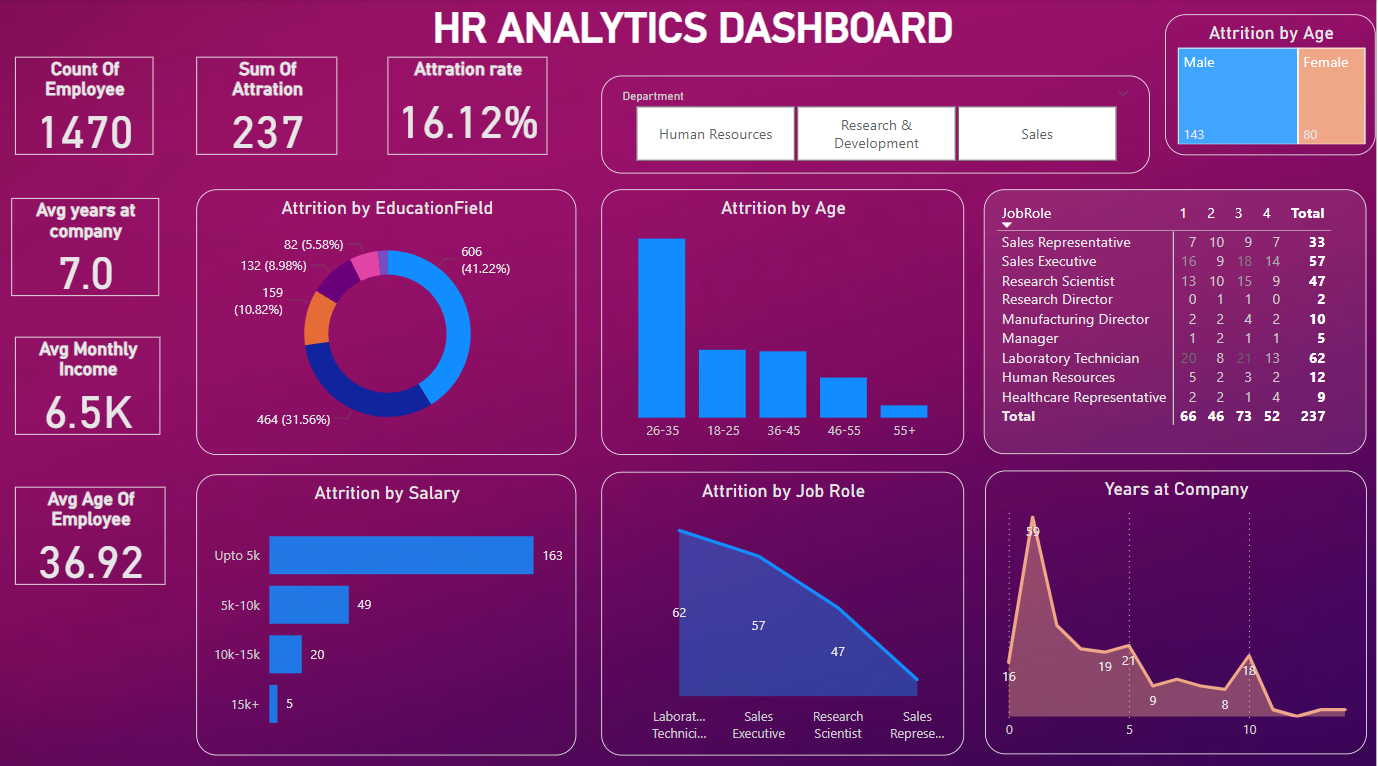

What the dashboard file says about the page in this screenshot:
{"tool":"powerbi","page":{"name":"Page 1","canvas":[1280,720],"ordinal":0},"visuals":[{"type":"card","title":"Count Of Employee","fields":{"Values":["CountNonNull(HR_Analytics.EmpID)"]},"box":[13.8,55,128.8,91.2],"z":0},{"type":"card","title":"Sum Of Attration","fields":{"Values":["Sum(HR_Analytics.AtterationCount)"]},"box":[182.5,55,131.2,91.2],"z":1000},{"type":"card","title":"Attration rate","fields":{"Values":["HR_Analytics.AttrationRate"]},"box":[360,55,148.8,91.2],"z":2000},{"type":"card","title":"Avg Age Of Employee","fields":{"Values":["Avg(HR_Analytics.Age)"]},"box":[13.8,455,140,91.2],"z":3000},{"type":"card","title":"Avg Monthly Income","fields":{"Values":["Avg(HR_Analytics.MonthlyIncome)"]},"box":[13.8,315,135,91.2],"z":4000},{"type":"card","title":"Avg years at company","fields":{"Values":["Avg(HR_Analytics.YearsAtCompany)"]},"box":[10,186.2,137.5,91.2],"z":5000},{"type":"donutChart","title":"Attrition by EducationField","fields":{"Category":["HR_Analytics.EducationField"],"Y":["CountNonNull(HR_Analytics.Attrition)"]},"box":[182.5,177.5,353.8,247.5],"z":6000},{"type":"lineStackedColumnComboChart","title":"Attrition by Age","fields":{"Y":["Sum(HR_Analytics.AtterationCount)"],"Category":["HR_Analytics.AgeGroup"]},"box":[558.8,177.5,337.5,247.5],"z":7000},{"type":"pivotTable","fields":{"Rows":["HR_Analytics.JobRole"],"Columns":["HR_Analytics.JobSatisfaction"],"Values":["Sum(HR_Analytics.AtterationCount)"]},"box":[915,177.5,356.2,246.2],"z":8000},{"type":"clusteredBarChart","title":"Attrition by Salary","fields":{"Category":["HR_Analytics.SalarySlab"],"Y":["Sum(HR_Analytics.AtterationCount)"]},"box":[182.5,442.5,353.8,261.2],"z":9000},{"type":"stackedAreaChart","title":"Attrition by Job Role","fields":{"Category":["HR_Analytics.JobRole"],"Y":["Sum(HR_Analytics.AtterationCount)"]},"box":[558.8,441.2,337.5,263.8],"z":10000},{"type":"stackedAreaChart","title":"Years at Company","fields":{"Category":["HR_Analytics.YearsAtCompany"],"Y":["Sum(HR_Analytics.AtterationCount)"]},"box":[916.2,440,355,263.8],"z":11000},{"type":"treemap","title":"Attrition by Age","fields":{"Group":["HR_Analytics.Gender"],"Values":["Sum(HR_Analytics.AtterationCount)"]},"box":[1083.8,15,196.2,131.2],"z":12000},{"type":"slicer","fields":{"Values":["HR_Analytics.Department"]},"box":[558.8,72.5,510,91.2],"z":13000},{"type":"textbox","box":[397.5,0,517.5,55],"z":14000}]}

Visuals, with their boxes in screenshot pixels (x1, y1, x2, y2), scaled from the page's 1280x720 canvas onto the 1378x766 screenshot:
"Count Of Employee" card: box(15, 59, 154, 156)
"Sum Of Attration" card: box(196, 59, 338, 156)
"Attration rate" card: box(388, 59, 548, 156)
"Avg Age Of Employee" card: box(15, 484, 166, 581)
"Avg Monthly Income" card: box(15, 335, 160, 432)
"Avg years at company" card: box(11, 198, 159, 295)
"Attrition by EducationField" donutChart: box(196, 189, 577, 452)
"Attrition by Age" lineStackedColumnComboChart: box(602, 189, 965, 452)
pivotTable - HR_Analytics.JobRole x HR_Analytics.JobSatisfaction: box(985, 189, 1369, 451)
"Attrition by Salary" clusteredBarChart: box(196, 471, 577, 749)
"Attrition by Job Role" stackedAreaChart: box(602, 469, 965, 750)
"Years at Company" stackedAreaChart: box(986, 468, 1369, 749)
"Attrition by Age" treemap: box(1167, 16, 1377, 156)
slicer - HR_Analytics.Department: box(602, 77, 1151, 174)
textbox: box(428, 0, 985, 59)
